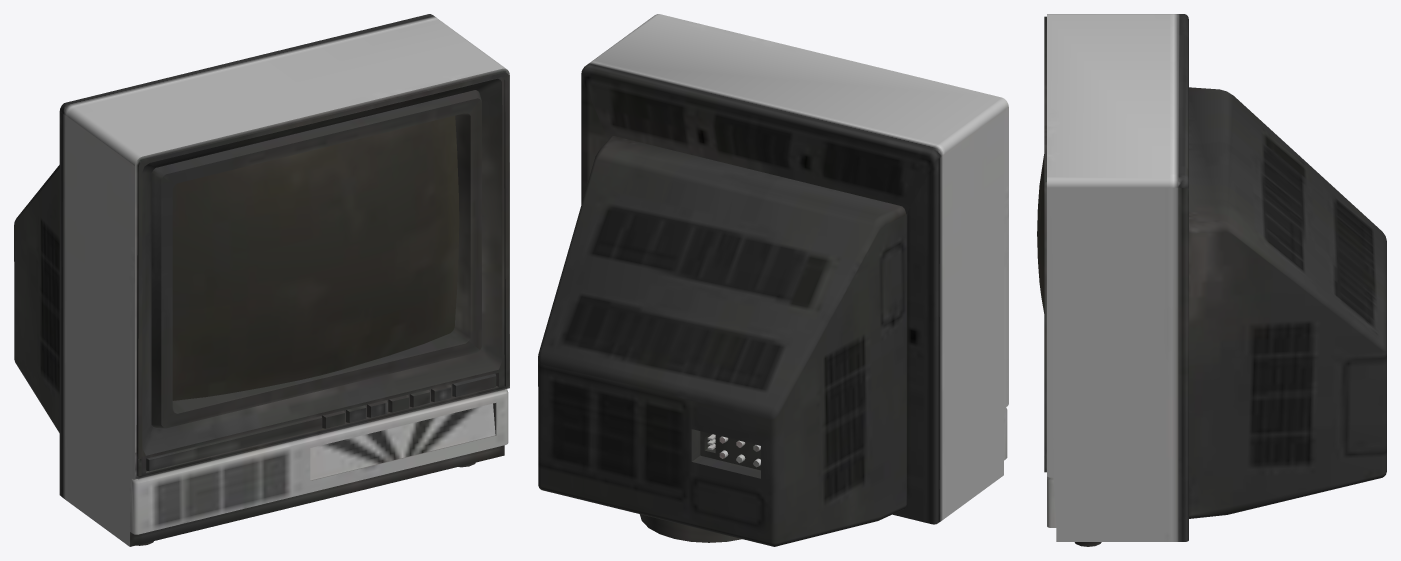
Rendered from television_02.glb.
The picture shows the model from 3 angles, left to right: view 1: azimuth 30°, elevation 25°; view 2: azimuth 150°, elevation 25°; view 3: azimuth 270°, elevation 25°; orthographic projection. The views are drawn at different scales.
Visible parts, largest first — view 1: television_02; view 2: television_02; view 3: television_02.
Boxes of the visible parts, box(x1,y1,x2,y2) form: television_02: box(14, 14, 509, 546); television_02: box(538, 14, 1008, 546); television_02: box(1037, 14, 1386, 546).
Bounding box in the file's own units: 0.3997 × 0.4114 × 0.3502.
1 material, 1 textured.
